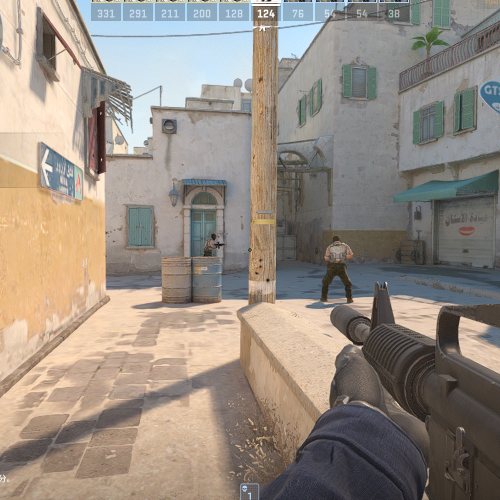t_body: (321, 233, 353, 305), (203, 233, 219, 255)
t_head: (333, 234, 340, 245), (211, 233, 216, 240)
